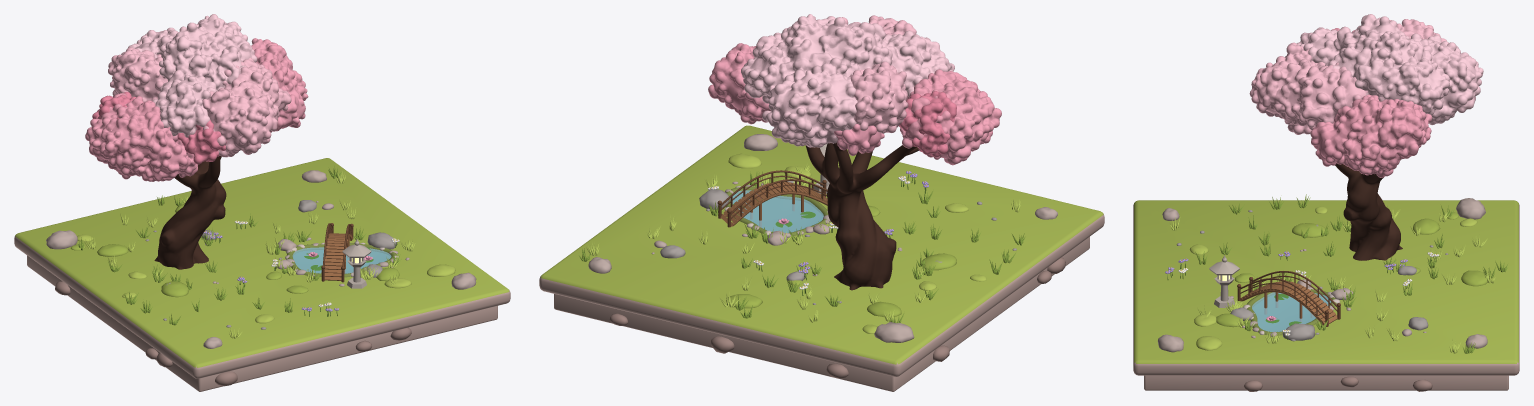
The model's file is sakura.glb.
3 views of the same model, side by side, from view 1: azimuth 30°, elevation 25°; view 2: azimuth 150°, elevation 25°; view 3: azimuth 270°, elevation 25° (orthographic). The views are drawn at different scales.
Parts seen in each view (by area): view 1: Base, Blossoms, Grass, Trunk, Rocks, Bridge, Water, Pond, Lantern, Flowers; view 2: Base, Blossoms, Trunk, Grass, Rocks, Bridge, Water, Pond, Flowers; view 3: Base, Blossoms, Grass, Trunk, Rocks, Bridge, Water, Lantern, Pond, Flowers.
Part boxes in pixels (x1,y1,x2,y2): Base: [14, 158, 510, 391]; Blossoms: [85, 14, 308, 181]; Grass: [70, 166, 455, 338]; Trunk: [154, 155, 226, 269]; Rocks: [46, 170, 476, 348]; Bridge: [321, 223, 353, 282]; Water: [292, 247, 391, 273]; Pond: [285, 242, 398, 277]; Lantern: [342, 239, 371, 288]; Flowers: [201, 220, 399, 316]; Base: [539, 125, 1104, 391]; Blossoms: [708, 14, 1001, 165]; Trunk: [805, 142, 918, 290]; Grass: [579, 153, 1025, 333]; Rocks: [588, 134, 1057, 342]; Bridge: [717, 170, 827, 227]; Water: [730, 190, 823, 232]; Pond: [724, 185, 830, 237]; Flowers: [707, 171, 928, 295]; Base: [1133, 200, 1519, 391]; Blossoms: [1249, 14, 1483, 177]; Grass: [1169, 194, 1507, 353]; Trunk: [1335, 163, 1402, 260]; Rocks: [1157, 198, 1487, 352]; Bridge: [1237, 271, 1340, 326]; Water: [1252, 292, 1330, 331]; Lantern: [1209, 255, 1239, 307]; Pond: [1243, 286, 1340, 336]; Flowers: [1165, 251, 1439, 339].
Size of the model in its own units: 72.04 by 56.61 by 72.
